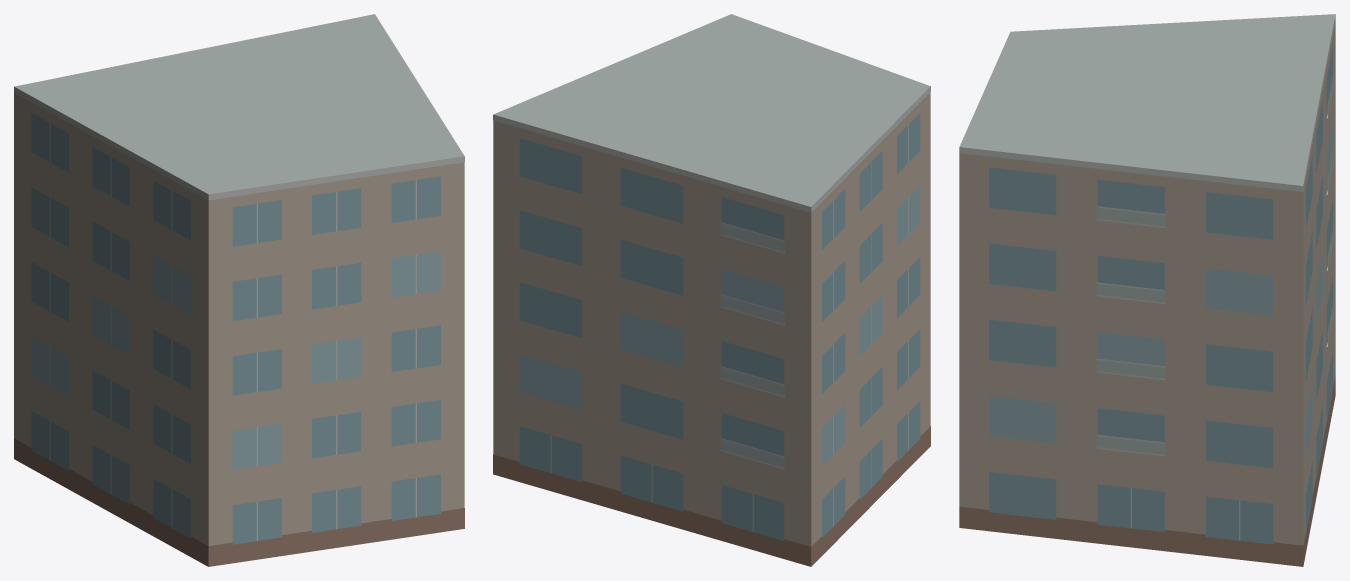
File: survey-upis-32498781.glb
3 renders of one model, left to right at view 1: azimuth 30°, elevation 25°; view 2: azimuth 150°, elevation 25°; view 3: azimuth 270°, elevation 25°, orthographic. The views are drawn at different scales.
Visible parts, largest first — view 1: survey-upis-32498781.tmp; view 2: survey-upis-32498781.tmp; view 3: survey-upis-32498781.tmp.
Boxes of the visible parts, x1,y1,x2,y2 form: survey-upis-32498781.tmp: (14,14,464,566); survey-upis-32498781.tmp: (493,14,930,566); survey-upis-32498781.tmp: (959,14,1335,566).
Bounding box in the file's own units: 14.79 × 15.25 × 13.67.
